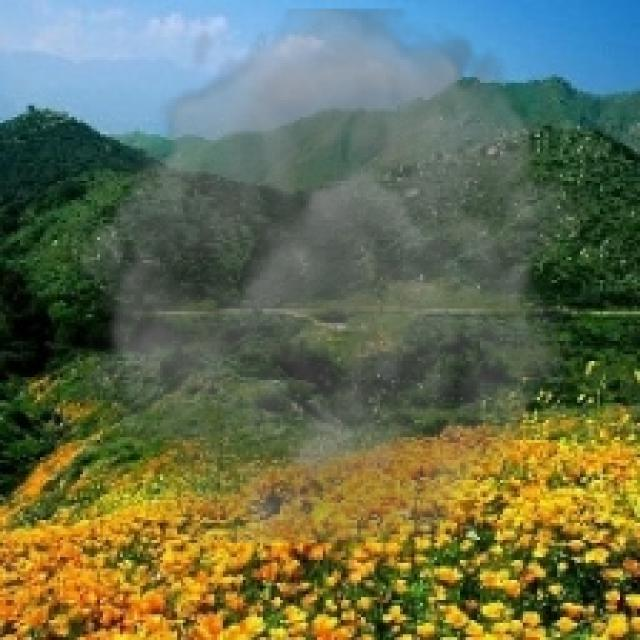Smoke: (57, 8, 597, 543)
